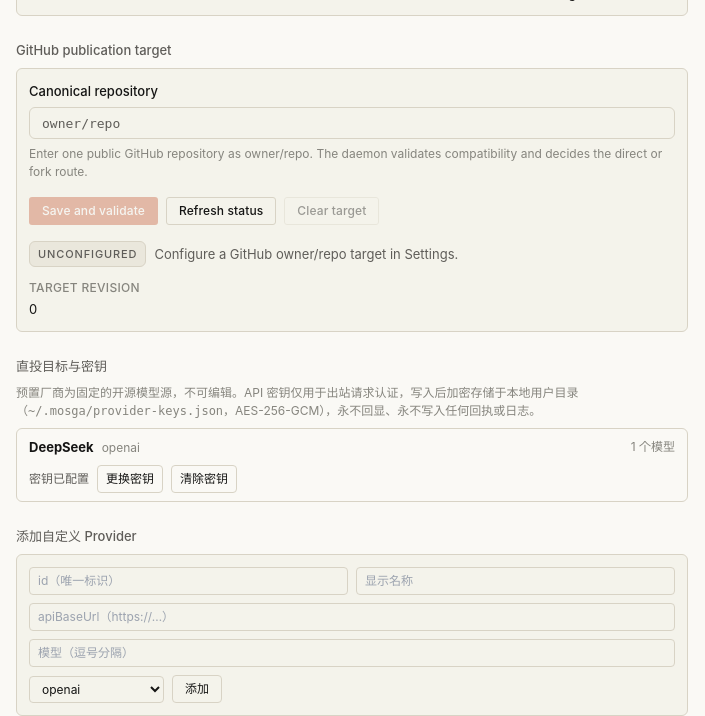
Test: SettingsPage — write-only key entry › rotates a configured key in place via 更换密钥, never showing the stored value
The image size is (705, 716).
(page scrolled)
Click the button with test id "key-replace-deepseek". click: (130,479)
box: top-left (97, 465), bottom-right (163, 493)
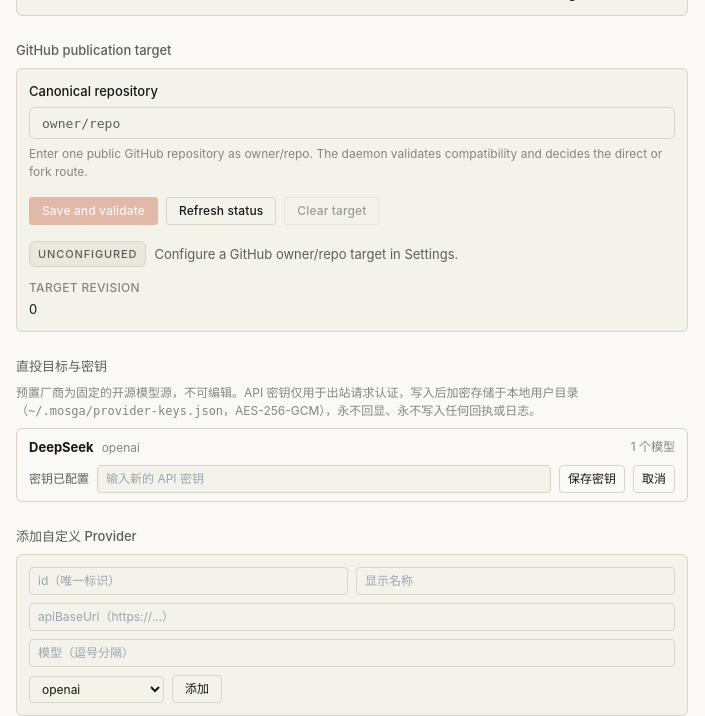
Expected: the password field with test id "key-input-deepseek" is empty
Type "sk-ROTATErotateROTATErotate9876543210" into the password field with test id "key-input-deepseek". click: (324,479)
box: top-left (97, 465), bottom-right (551, 493)
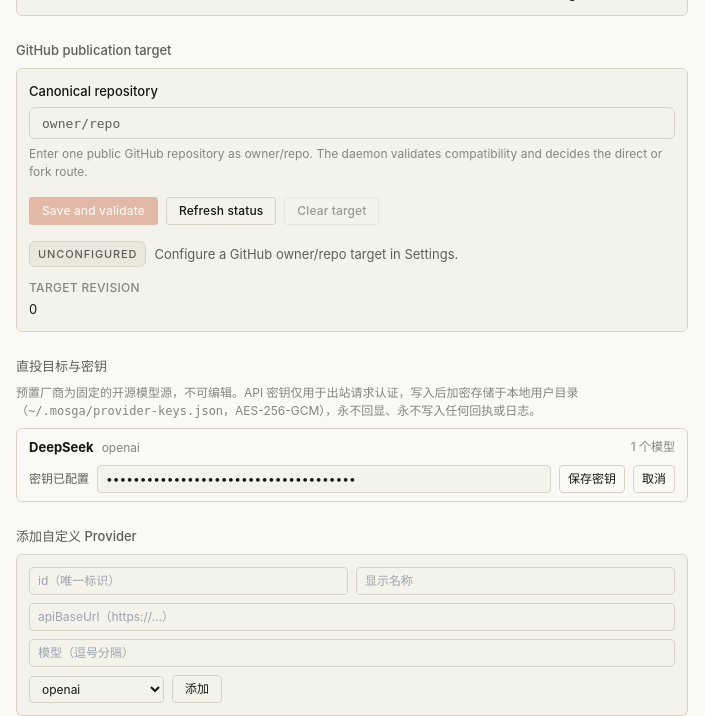
Click the button with test id "key-set-deepseek". click: (592,479)
box: top-left (559, 465), bottom-right (625, 493)
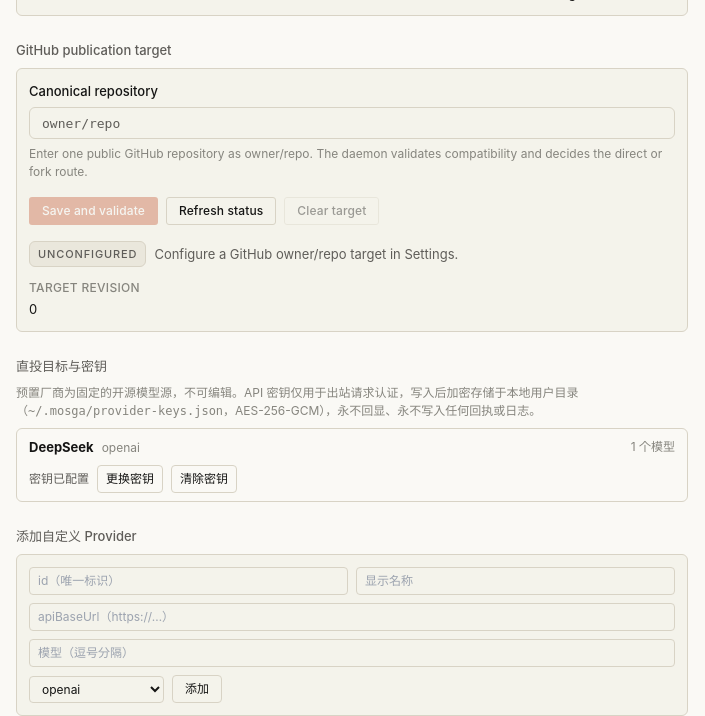
Expected: the button with test id "key-clear-deepseek" is shown, top-left (171, 465), bottom-right (237, 493)
Expected: the password field with test id "key-input-deepseek" is gone
